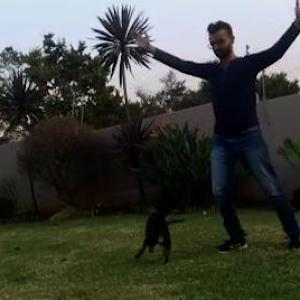takeoff: (136, 6, 299, 240)
